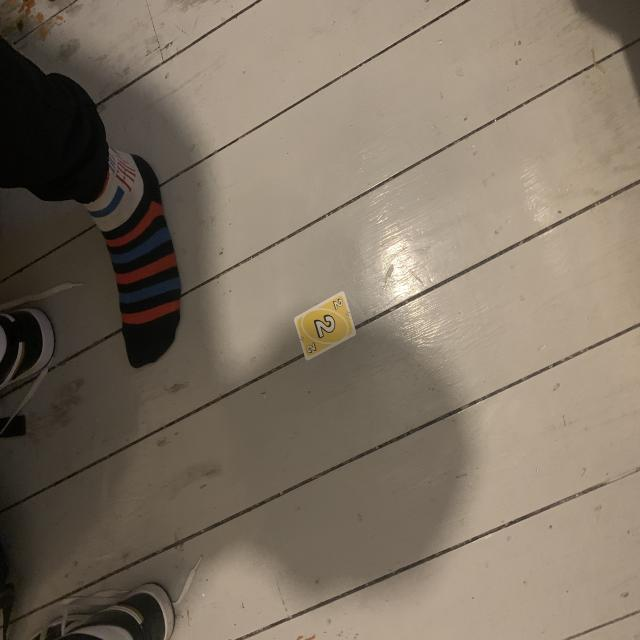lyellow-2: (332, 297, 344, 310)
